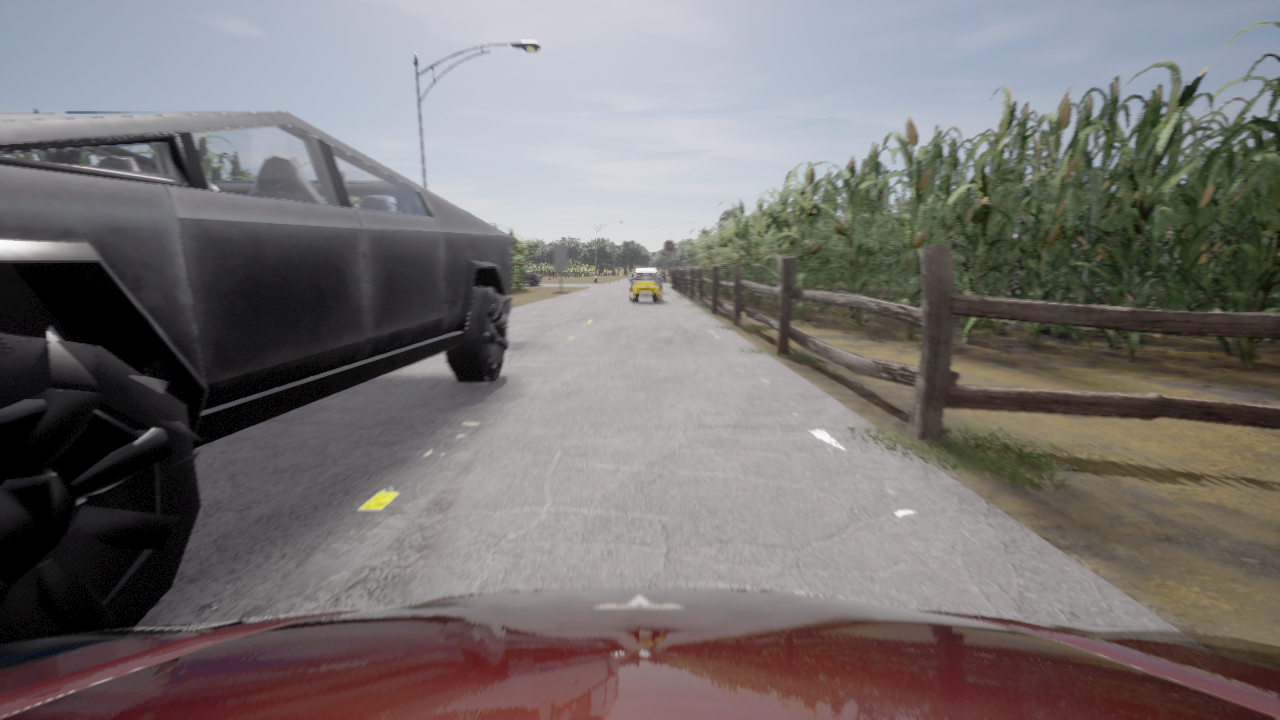cyclist: (0, 111, 512, 644), (0, 588, 1279, 719), (629, 269, 662, 302), (631, 269, 661, 287), (512, 269, 542, 285), (634, 272, 635, 274)
